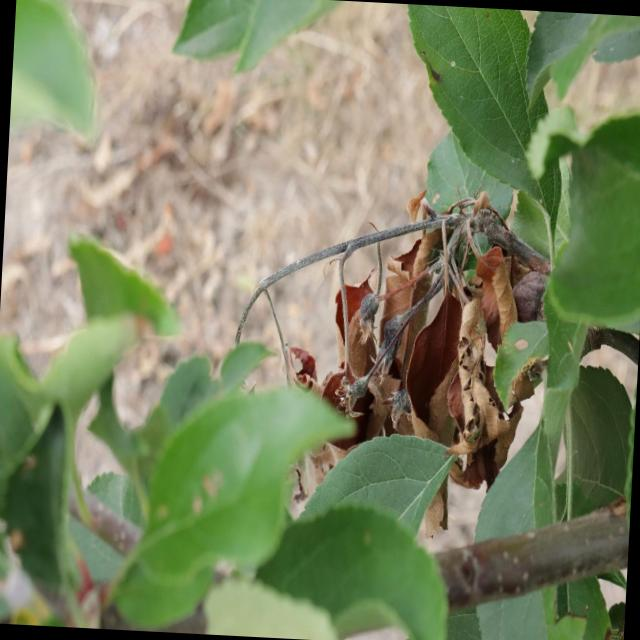-FireBlight-: (284, 205, 551, 532)
